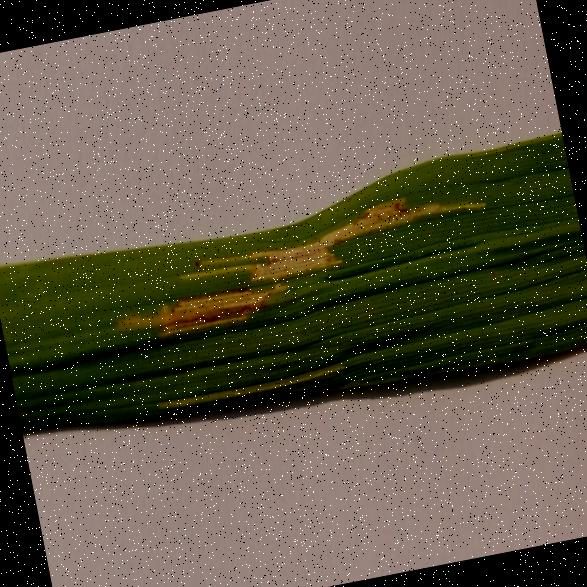Bacteria_Leaf_Blight: (98, 182, 518, 366)
